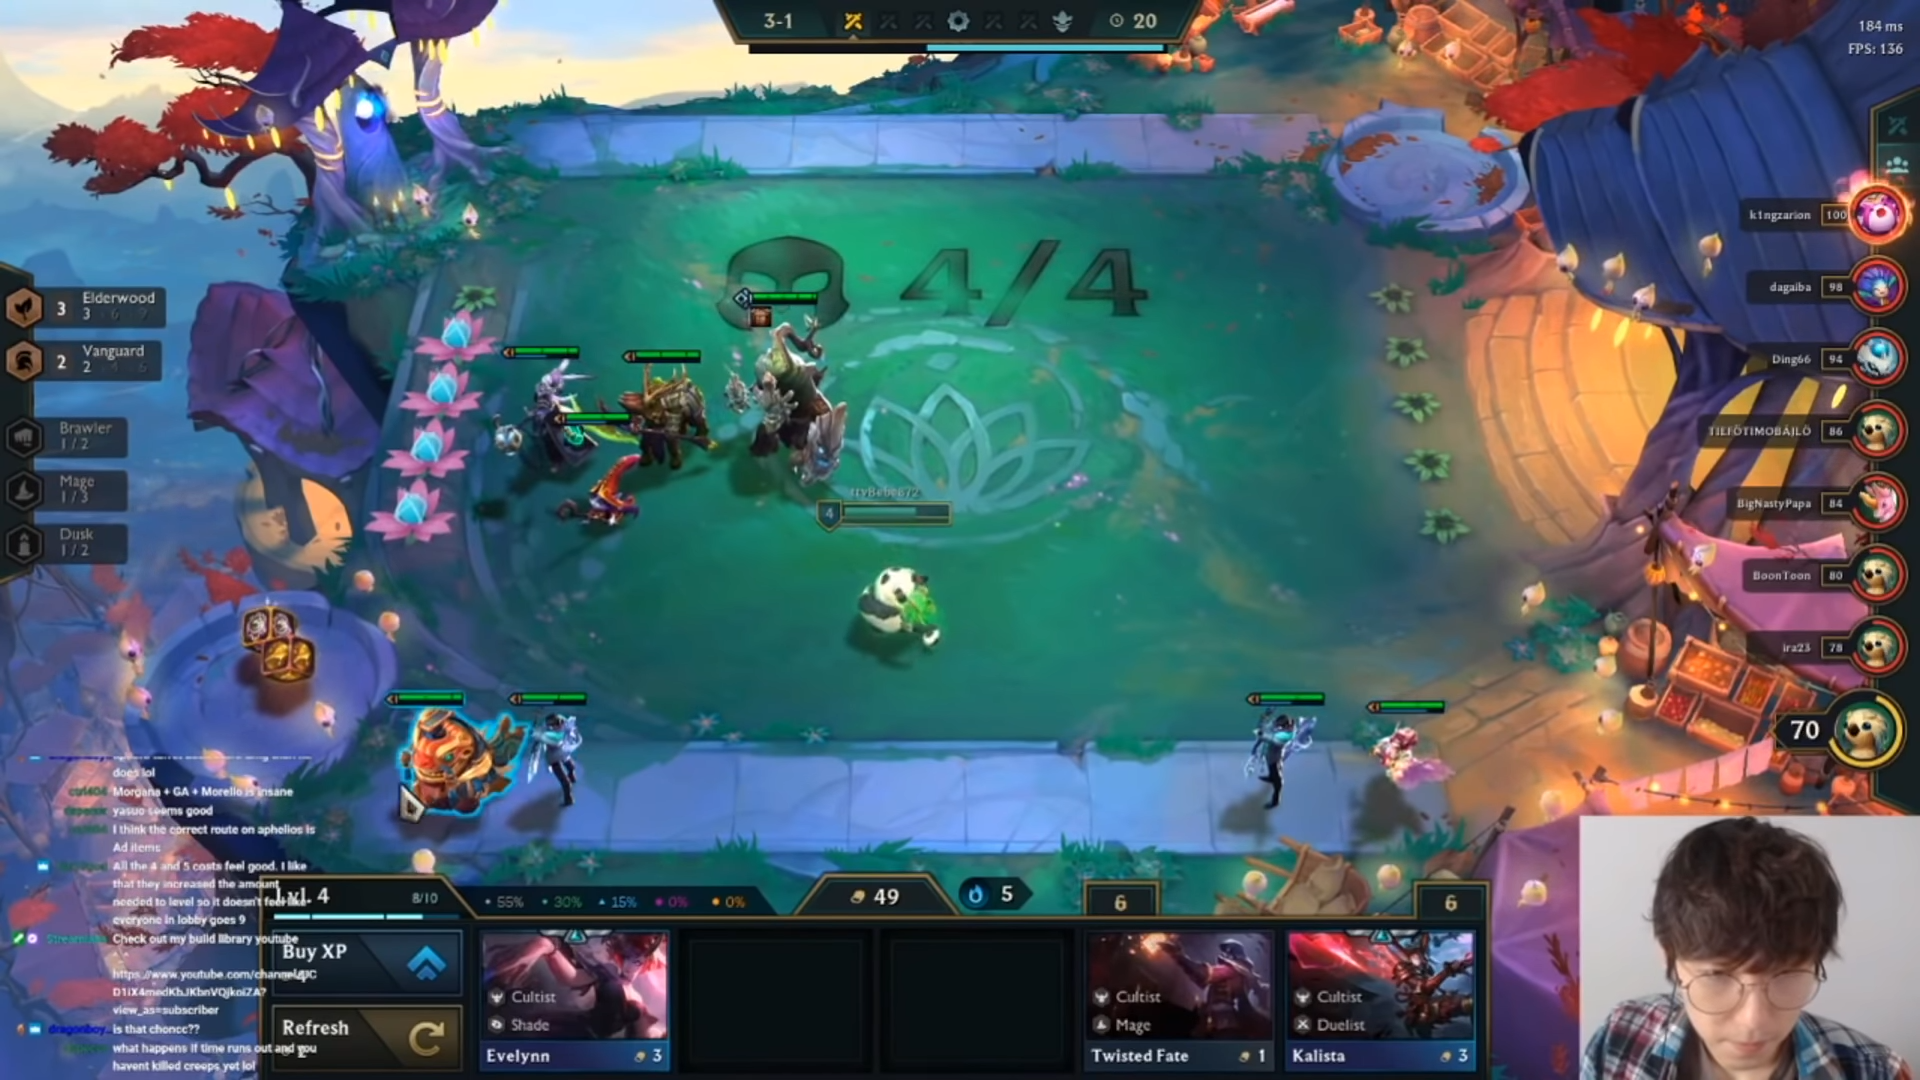1star_aphelios: (1215, 680, 1335, 841), (504, 680, 601, 839)
1star_hecarim: (571, 336, 721, 487)
1star_lulu: (549, 401, 644, 550)
1star_nami: (1348, 688, 1462, 847)
1star_tahmkench: (375, 666, 531, 839)
1star_thresh: (473, 332, 597, 516)
2star_maokai: (713, 276, 855, 506)
item_bramble: (744, 301, 775, 331)
item_shojin: (559, 421, 588, 448)
trait_brawler1: (1, 411, 135, 465)
trait_dusk1: (1, 520, 133, 570)
trait_elderwood3: (1, 280, 174, 334)
trait_mage1: (1, 462, 136, 522)
trait_vanguard2: (1, 335, 169, 386)
